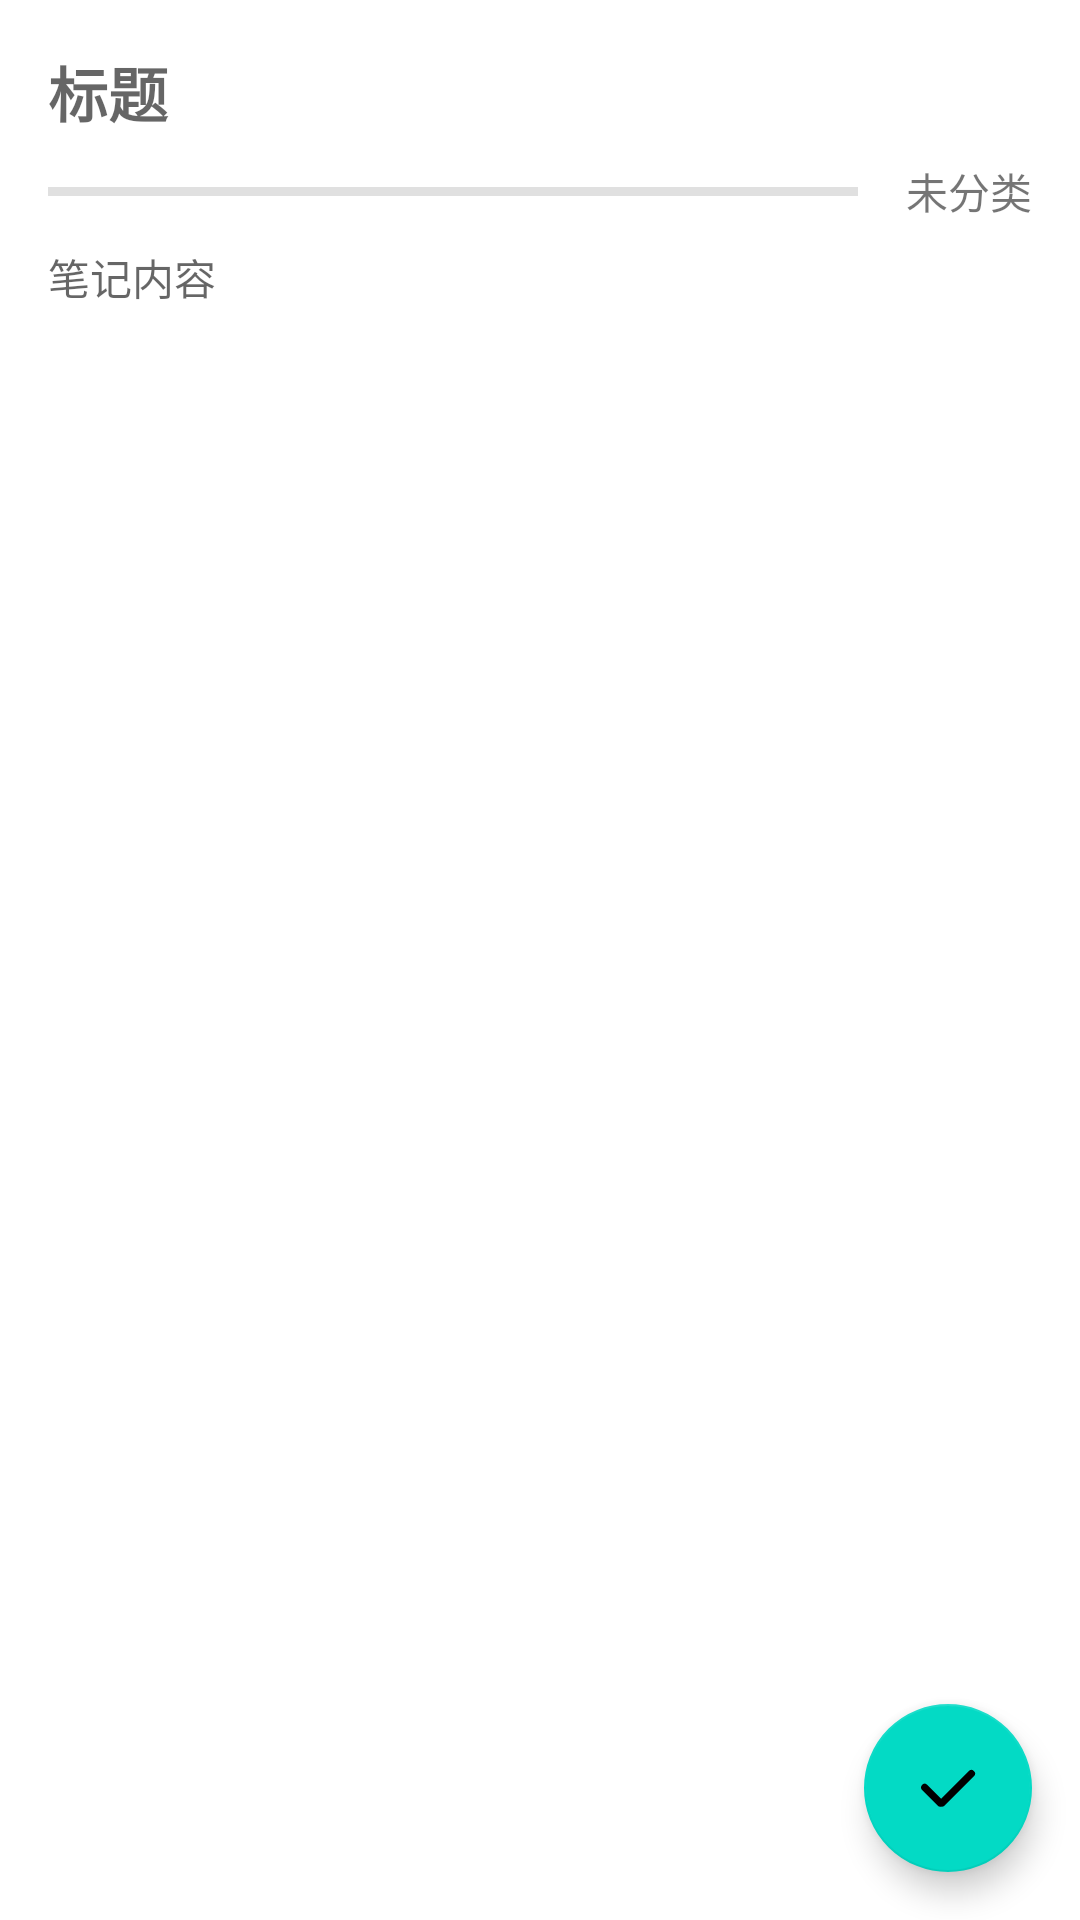

Icons on this 1080px x 1920px Android screen, each with its box as Rect(x1, y1, x2, y2):
finish: Rect(864, 1704, 1032, 1872)
